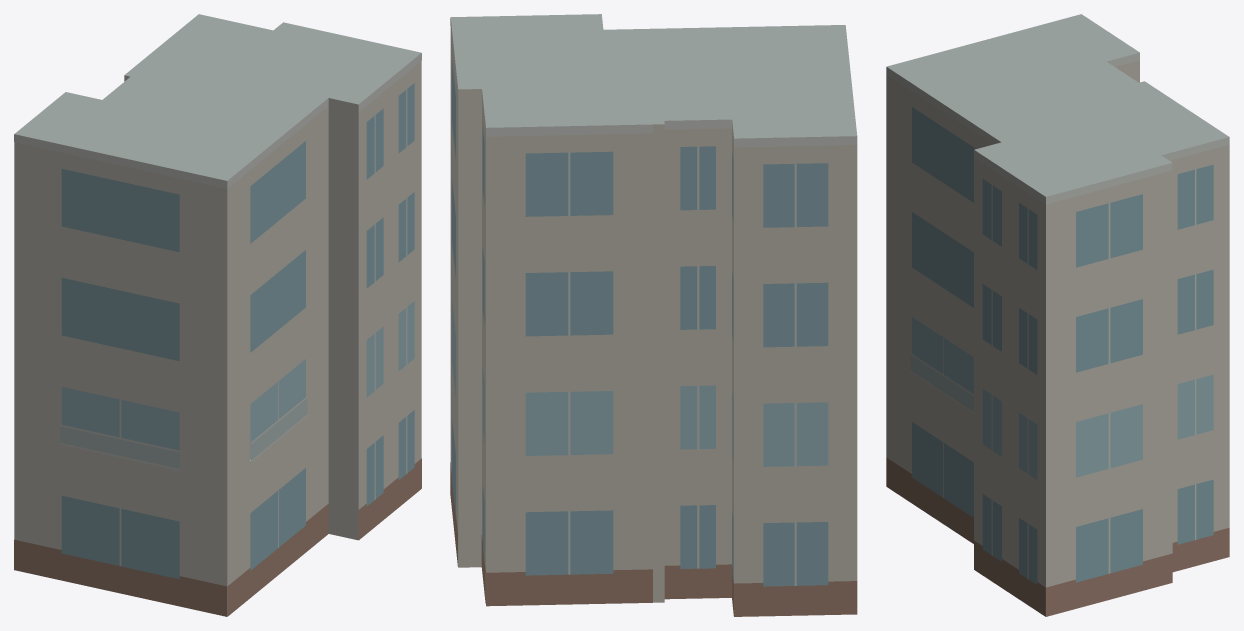
The model's file is survey-upis-32610001.glb.
3 renders of one model, left to right at view 1: azimuth 30°, elevation 25°; view 2: azimuth 150°, elevation 25°; view 3: azimuth 270°, elevation 25°, orthographic. The views are drawn at different scales.
Visible parts, largest first — view 1: survey-upis-32610001.tmp; view 2: survey-upis-32610001.tmp; view 3: survey-upis-32610001.tmp.
Boxes of the visible parts, x1,y1,x2,y2 form: survey-upis-32610001.tmp: (14,14,421,616); survey-upis-32610001.tmp: (450,14,857,616); survey-upis-32610001.tmp: (886,14,1229,616).
Size of the model in its own units: 12.43 by 13.3 by 9.86.
